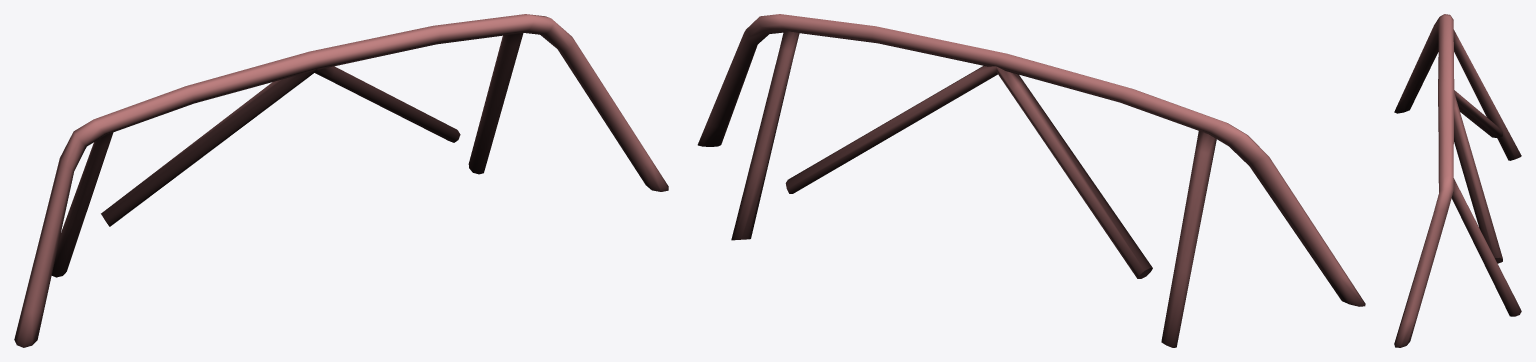
Rendered from MX5_Extra01_Trim.fbx.
The picture shows the model from 3 angles, left to right: view 1: azimuth 30°, elevation 25°; view 2: azimuth 150°, elevation 25°; view 3: azimuth 270°, elevation 25°; orthographic projection. The views are drawn at different scales.
Visible parts, largest first — view 1: MX5_Extra01_Trim; view 2: MX5_Extra01_Trim; view 3: MX5_Extra01_Trim.
Boxes of the visible parts, x1,y1,x2,y2 form: MX5_Extra01_Trim: [14, 14, 668, 347]; MX5_Extra01_Trim: [697, 14, 1365, 347]; MX5_Extra01_Trim: [1394, 14, 1521, 347].
Bounding box in the file's own units: 127 × 37.83 × 28.6.
